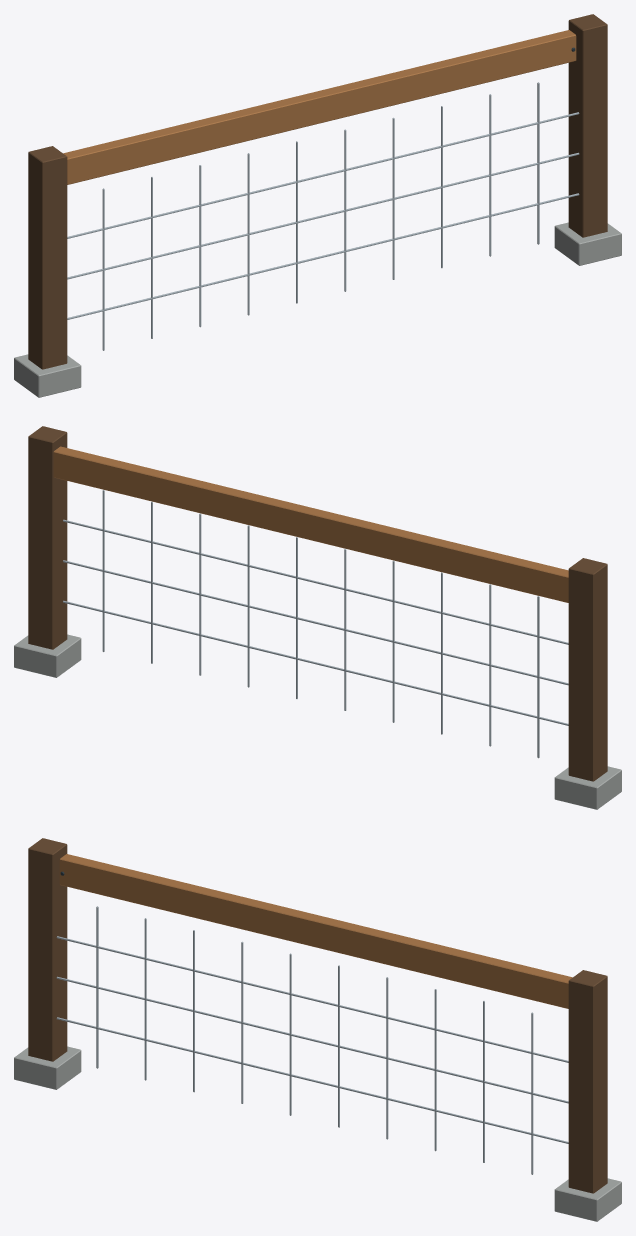
File: b19_ranch_wire_fence.glb
The picture shows the model from 3 angles, top to bottom: view 1: azimuth 30°, elevation 25°; view 2: azimuth 150°, elevation 25°; view 3: azimuth 330°, elevation 25°; orthographic projection.
Parts seen in each view (by area): view 1: b19_ranch_wire_fence; view 2: b19_ranch_wire_fence; view 3: b19_ranch_wire_fence.
Part boxes in pixels (x1=…): b19_ranch_wire_fence: x1=14, y1=14, x2=621, y2=397; b19_ranch_wire_fence: x1=14, y1=426, x2=621, y2=809; b19_ranch_wire_fence: x1=14, y1=838, x2=621, y2=1221.
Size of the model in its own units: 3.24 by 1.22 by 0.24.
